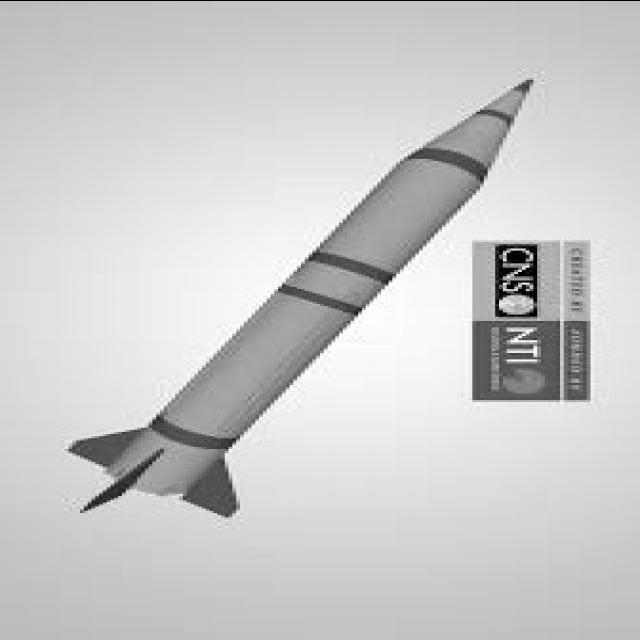missile: (52, 78, 549, 523)
